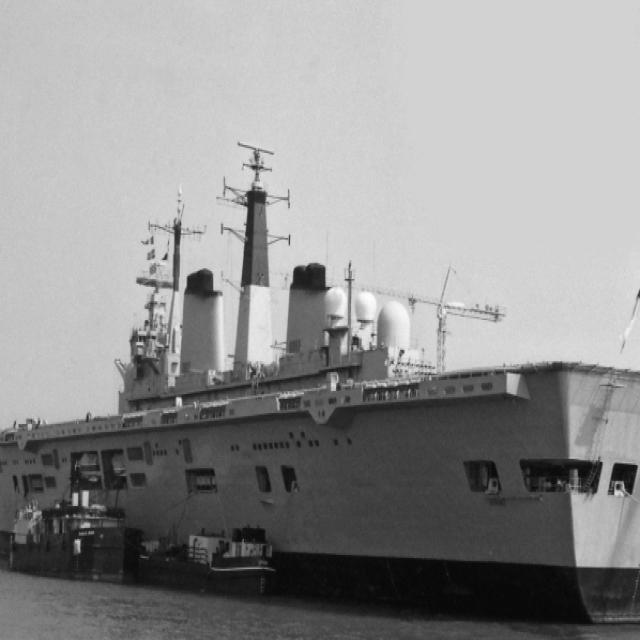Portanaves: (1, 128, 640, 640)
